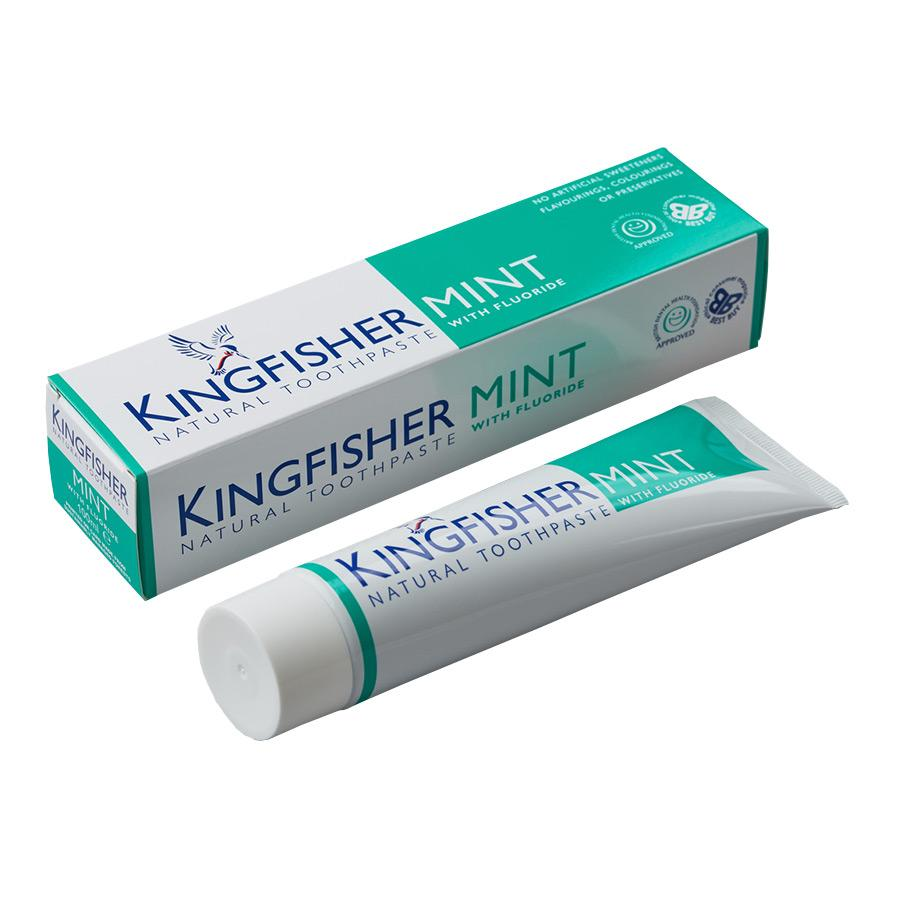toothpaste: (45, 113, 813, 607), (168, 375, 862, 759)
